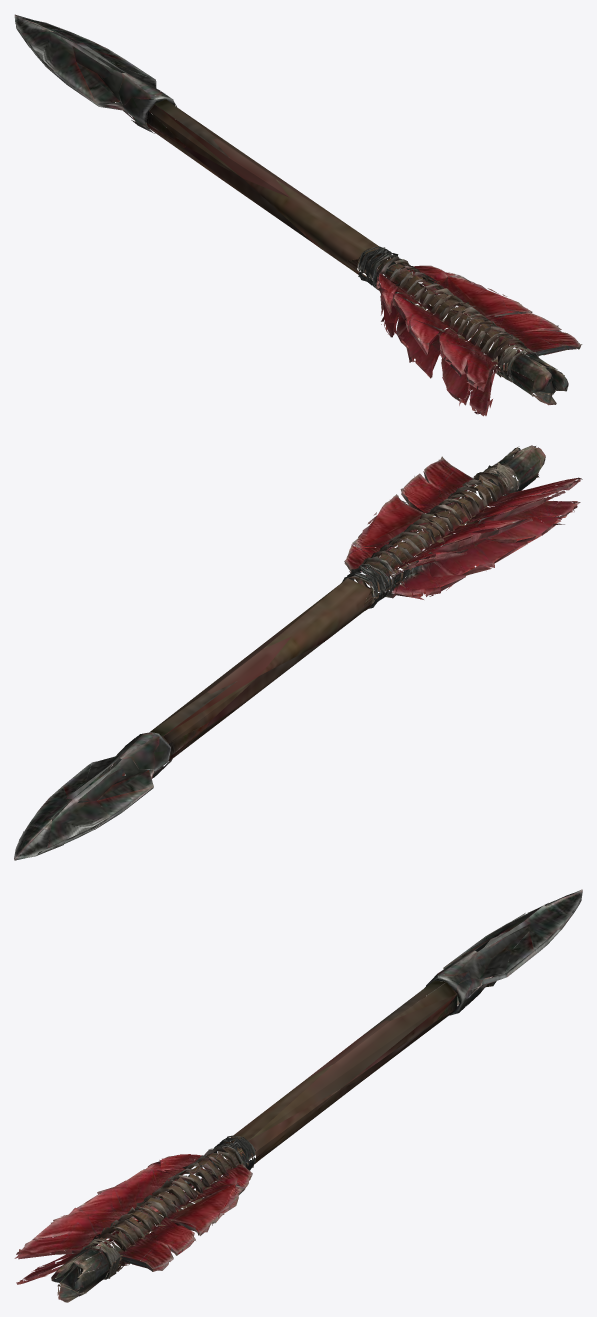
Rendered from fire.glb.
3 views of the same model, one above another, from view 1: azimuth 30°, elevation 25°; view 2: azimuth 150°, elevation 25°; view 3: azimuth 330°, elevation 25° (orthographic). The views are drawn at different scales.
Parts seen in each view (by area): view 1: Mesh_0; view 2: Mesh_0; view 3: Mesh_0.
Boxes of the visible parts, x1=… form: Mesh_0: x1=14, y1=14, x2=582, y2=416; Mesh_0: x1=14, y1=445, x2=582, y2=860; Mesh_0: x1=14, y1=889, x2=582, y2=1302.
Size of the model in its own units: 0.1108 by 0.0427 by 0.8008.
Materials: 1 (1 with a texture image).
